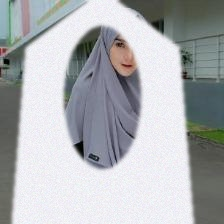Mukena: (7, 20, 198, 224)
